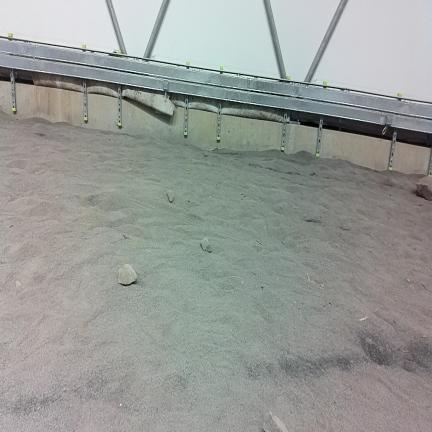Rock: (263, 412, 287, 431), (119, 264, 137, 285), (417, 176, 431, 200), (200, 236, 212, 252), (167, 190, 175, 202), (16, 281, 21, 288)
